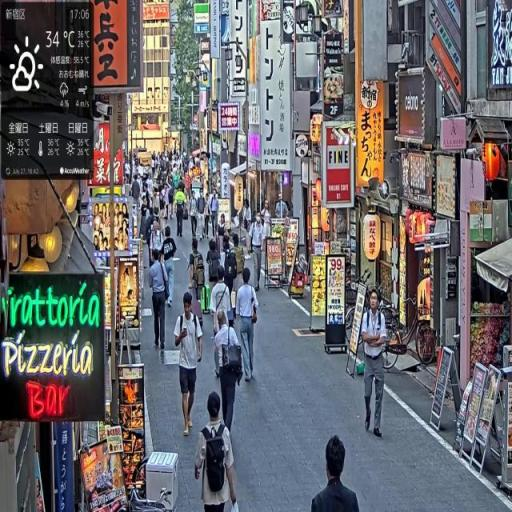person: (196, 391, 241, 512), (173, 291, 204, 445), (359, 287, 388, 440), (311, 434, 362, 512), (214, 307, 243, 442), (236, 266, 260, 384), (151, 249, 171, 354), (251, 208, 268, 295), (162, 222, 178, 308), (189, 193, 200, 240), (176, 192, 186, 239)
